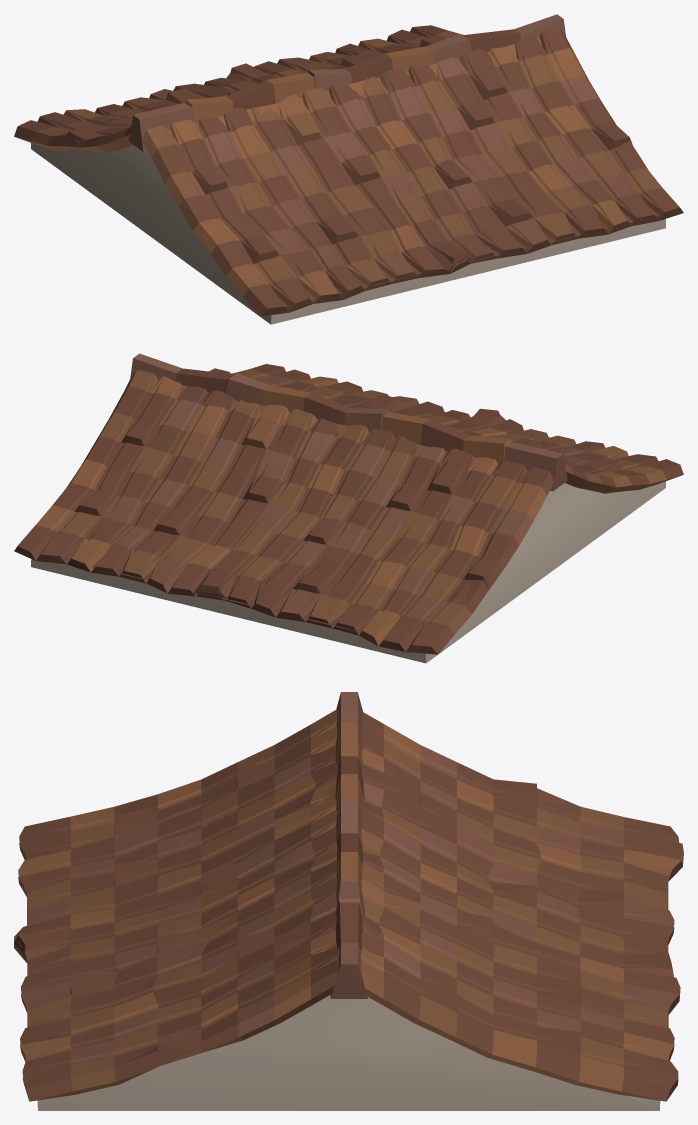
Rendered from Roof 01.fbx.
The picture shows the model from 3 angles, top to bottom: view 1: azimuth 30°, elevation 25°; view 2: azimuth 150°, elevation 25°; view 3: azimuth 270°, elevation 25°; orthographic projection. The views are drawn at different scales.
Parts seen in each view (by area): view 1: Roof 01 high, Roof 01, Roof 01 low; view 2: Roof 01 high, Roof 01, Roof 01 low; view 3: Roof 01 high, Roof 01, Roof 01 low.
Boxes of the visible parts, x1,y1,x2,y2 form: Roof 01 high: (14,14,683,324); Roof 01: (33,27,664,312); Roof 01 low: (107,37,658,306); Roof 01 high: (14,353,683,663); Roof 01: (31,367,662,651); Roof 01 low: (39,380,577,646); Roof 01 high: (14,693,683,1110); Roof 01: (14,692,683,1081); Roof 01 low: (27,760,668,1110).
Size of the model in its own units: 4.14 by 1.17 by 4.36.
Materials: 1 (1 with a texture image).
